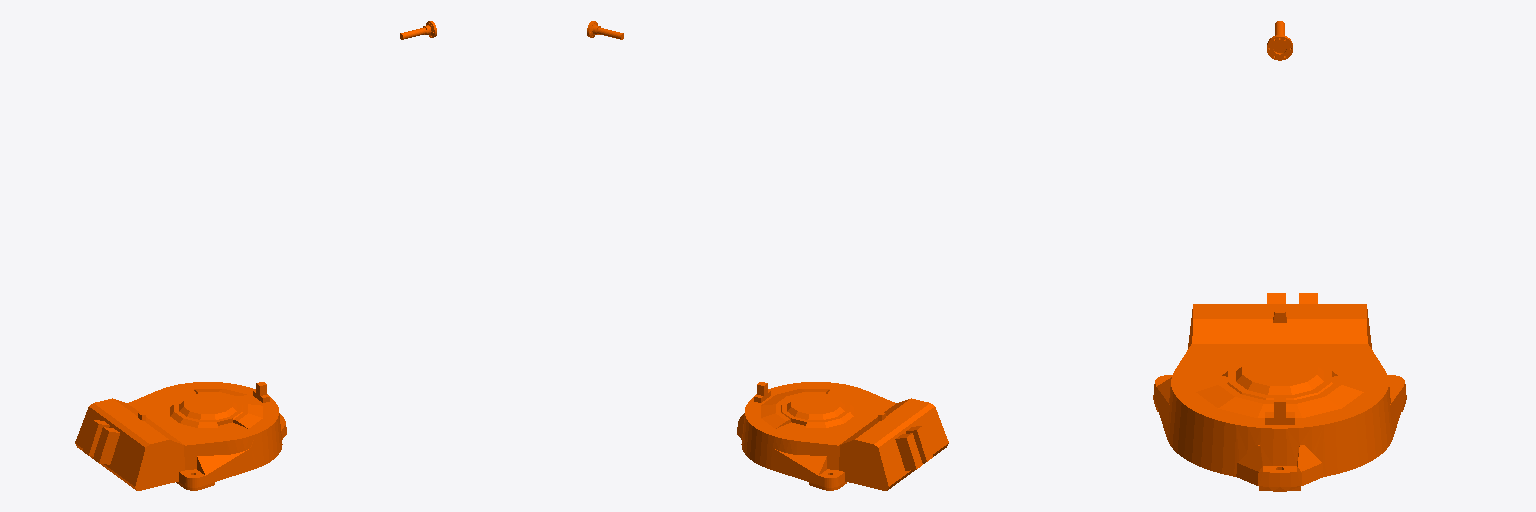
The robot description file, URDF, robot "abb_irb2400_blue_room":
<?xml version="1.0" ?>
<!-- =================================================================================== -->
<!-- |    This document was autogenerated by xacro from abb_irb2400_blue_room.xacro    | -->
<!-- |    EDITING THIS FILE BY HAND IS NOT RECOMMENDED                                 | -->
<!-- =================================================================================== -->
<robot name="abb_irb2400_blue_room" xmlns:xacro="http://ros.org/wiki/xacro">
  <!-- instantiating xacros -->
  <link name="base_link">
    <visual>
      <origin rpy="0 0 0" xyz="0 0 0"/>
      <geometry>
        <mesh filename="package://abb_common/meshes/irb_2400/visual/base_link.STL"/>
      </geometry>
      <material name="abb_orange">
        <color rgba="1 0.43 0 1"/>
      </material>
    </visual>
    <collision>
      <geometry>
        <mesh filename="package://abb_common/meshes/irb_2400/collision/base_link.STL"/>
      </geometry>
      <material name="yellow">
        <color rgba="0 1 1 1"/>
      </material>
    </collision>
  </link>
  <link name="link_1">
    <visual>
      <origin rpy="0 0 0" xyz="0 0 0"/>
      <geometry>
        <mesh filename="package://abb_common/meshes/irb_2400/visual/link_1.STL"/>
      </geometry>
      <material name="abb_orange"/>
    </visual>
    <collision>
      <origin rpy="0 0 0" xyz="0 0 0"/>
      <geometry>
        <mesh filename="package://abb_common/meshes/irb_2400/collision/link_1.STL"/>
      </geometry>
      <material name="yellow"/>
    </collision>
  </link>
  <link name="link_2">
    <visual>
      <origin rpy="0 0 0" xyz="0 0 0"/>
      <geometry>
        <mesh filename="package://abb_common/meshes/irb_2400/visual/link_2.STL"/>
      </geometry>
      <material name="abb_orange"/>
    </visual>
    <collision>
      <origin rpy="0 0 0" xyz="0 0 0"/>
      <geometry>
        <mesh filename="package://abb_common/meshes/irb_2400/collision/link_2_whole.STL"/>
      </geometry>
      <material name="yellow"/>
    </collision>
  </link>
  <link name="link_3">
    <visual>
      <origin rpy="0 0 0" xyz="0 0 0"/>
      <geometry>
        <mesh filename="package://abb_common/meshes/irb_2400/visual/link_3.STL"/>
      </geometry>
      <material name="abb_orange"/>
    </visual>
    <collision>
      <origin rpy="0 0 0" xyz="0 0 0"/>
      <geometry>
        <mesh filename="package://abb_common/meshes/irb_2400/collision/link_3.STL"/>
      </geometry>
      <material name="yellow"/>
    </collision>
  </link>
  <link name="link_4">
    <visual>
      <origin rpy="0 0 0" xyz="0 0 0"/>
      <geometry>
        <mesh filename="package://abb_common/meshes/irb_2400/visual/link_4.STL"/>
      </geometry>
      <material name="abb_orange"/>
    </visual>
    <collision>
      <origin rpy="0 0 0" xyz="0 0 0"/>
      <geometry>
        <mesh filename="package://abb_common/meshes/irb_2400/collision/link_4.STL"/>
      </geometry>
      <material name="yellow"/>
    </collision>
  </link>
  <link name="link_5">
    <visual>
      <origin rpy="0 0 0" xyz="0 0 0"/>
      <geometry>
        <mesh filename="package://abb_common/meshes/irb_2400/visual/link_5.STL"/>
      </geometry>
      <material name="abb_orange"/>
    </visual>
    <collision>
      <origin rpy="0 0 0" xyz="0 0 0"/>
      <geometry>
        <mesh filename="package://abb_common/meshes/irb_2400/collision/link_5.STL"/>
      </geometry>
      <material name="yellow"/>
    </collision>
  </link>
  <link name="link_6">
    <visual>
      <origin rpy="0 0 0" xyz="0 0 0"/>
      <geometry>
        <mesh filename="package://abb_common/meshes/irb_2400/visual/link_6.STL"/>
      </geometry>
      <material name="abb_orange"/>
    </visual>
    <collision>
      <origin rpy="0 0 0" xyz="0 0 0"/>
      <geometry>
        <mesh filename="package://abb_common/meshes/irb_2400/collision/link_6.STL"/>
      </geometry>
      <material name="yellow"/>
    </collision>
  </link>
  <link name="tool0"/>
  <joint name="joint_1" type="revolute">
    <origin rpy="0 0 0" xyz="0 0 0"/>
    <parent link="base_link"/>
    <child link="link_1"/>
    <axis xyz="0 0 1"/>
    <limit effort="0" lower="-3.1416" upper="3.1416" velocity="2.618"/>
    <calibration falling="0" rising="0"/>
    <dynamics damping="0" friction="0"/>
  </joint>
  <joint name="joint_2" type="revolute">
    <origin rpy="0 0 0" xyz="0.1 0 0.615"/>
    <parent link="link_1"/>
    <child link="link_2"/>
    <axis xyz="0 1 0"/>
    <limit effort="0" lower="-1.7453" upper="1.9199" velocity="2.618"/>
    <calibration falling="0" rising="0"/>
    <dynamics damping="0" friction="0"/>
  </joint>
  <joint name="joint_3" type="revolute">
    <origin rpy="0 0 0" xyz="0 0 0.705"/>
    <parent link="link_2"/>
    <child link="link_3"/>
    <axis xyz="0 1 0"/>
    <limit effort="0" lower="-1.0472" upper="1.1345" velocity="2.618"/>
    <calibration falling="0" rising="0"/>
    <dynamics damping="0" friction="0"/>
  </joint>
  <joint name="joint_4" type="revolute">
    <origin rpy="0 0 0" xyz="0.258 0 0.135"/>
    <parent link="link_3"/>
    <child link="link_4"/>
    <axis xyz="1 0 0"/>
    <limit effort="0" lower="-3.49" upper="3.49" velocity="6.2832"/>
    <calibration falling="0" rising="0"/>
    <dynamics damping="0" friction="0"/>
  </joint>
  <joint name="joint_5" type="revolute">
    <origin rpy="0 0 0" xyz="0.497 0 0"/>
    <parent link="link_4"/>
    <child link="link_5"/>
    <axis xyz="0 1 0"/>
    <limit effort="0" lower="-2.0944" upper="2.0944" velocity="6.2832"/>
    <calibration falling="0" rising="0"/>
    <dynamics damping="0" friction="0"/>
  </joint>
  <joint name="joint_6" type="revolute">
    <origin rpy="0 0 0" xyz="0.085 0 0"/>
    <parent link="link_5"/>
    <child link="link_6"/>
    <axis xyz="1 0 0"/>
    <limit effort="0" lower="-6.9813" upper="6.9813" velocity="7.854"/>
    <calibration falling="0" rising="0"/>
    <dynamics damping="0" friction="0"/>
  </joint>
  <joint name="joint_6-tool0" type="fixed">
    <parent link="link_6"/>
    <child link="tool0"/>
    <origin rpy="0 0 0" xyz="0 0 0"/>
  </joint>
  <!-- color definitions -->
  <material name="blue">
    <color rgba="0 0 1 1"/>
  </material>
  <material name="yellow">
    <color rgba="1 1 0 1"/>
  </material>
  <material name="orange">
    <color rgba="1 0.66 0.48 1"/>
  </material>
  <material name="red">
    <color rgba="1 0 0 1"/>
  </material>
  <material name="light_blue">
    <color rgba="0.78 0.94 0.965 1"/>
  </material>
  <!-- link definitions -->
  <link name="robot_rear_wall_link">
    <collision>
      <origin rpy="0 0 0" xyz="0 1 0"/>
      <geometry>
        <box size="0.25 2.0 2.0"/>
      </geometry>
      <material name="red"/>
    </collision>
  </link>
  <link name="robot_table_link">
    <collision>
      <origin rpy="0 0 0" xyz="0 0 -0.125"/>
      <geometry>
        <box size="4.0 4.0 0.25"/>
      </geometry>
      <material name="red"/>
    </collision>
  </link>
  <!-- joint definitions -->
  <joint name="base_to_robot_rear_wall" type="fixed">
    <origin rpy="0 0 0" xyz="-0.5 -1.0 1.0"/>
    <parent link="base_link"/>
    <child link="robot_rear_wall_link"/>
  </joint>
  <joint name="base_to_robot_table" type="fixed">
    <origin rpy="0 0 0" xyz="0 0 0"/>
    <parent link="base_link"/>
    <child link="robot_table_link"/>
  </joint>
</robot>

--- What the picture shows (computed from the rendered views, not written in the file) ---
3 views of the same robot in one strip: view 1: azimuth 30°, elevation 25°; view 2: azimuth 150°, elevation 25°; view 3: azimuth 270°, elevation 25° (orthographic).
Robot: abb_irb2400_blue_room — 10 links, 9 joints (6 revolute, 3 fixed); root link base_link; default pose: all joints at 0.
Visible links, largest first — view 1: base_link; view 2: base_link; view 3: base_link, link_6.
Boxes of the visible links, box(x1,y1,x2,y2) form: base_link: box(75, 382, 286, 490); base_link: box(737, 382, 948, 490); base_link: box(1153, 293, 1406, 491); link_6: box(1267, 21, 1292, 60).
Bounding box of the posed robot: 1.41 × 0.5999 × 1.49 m (x, y, z).
Meshes: 7 distinct files referenced, 2 mesh visuals loaded (2 binary STL); not drawn: 5 (reference not matched to a file when rendering).